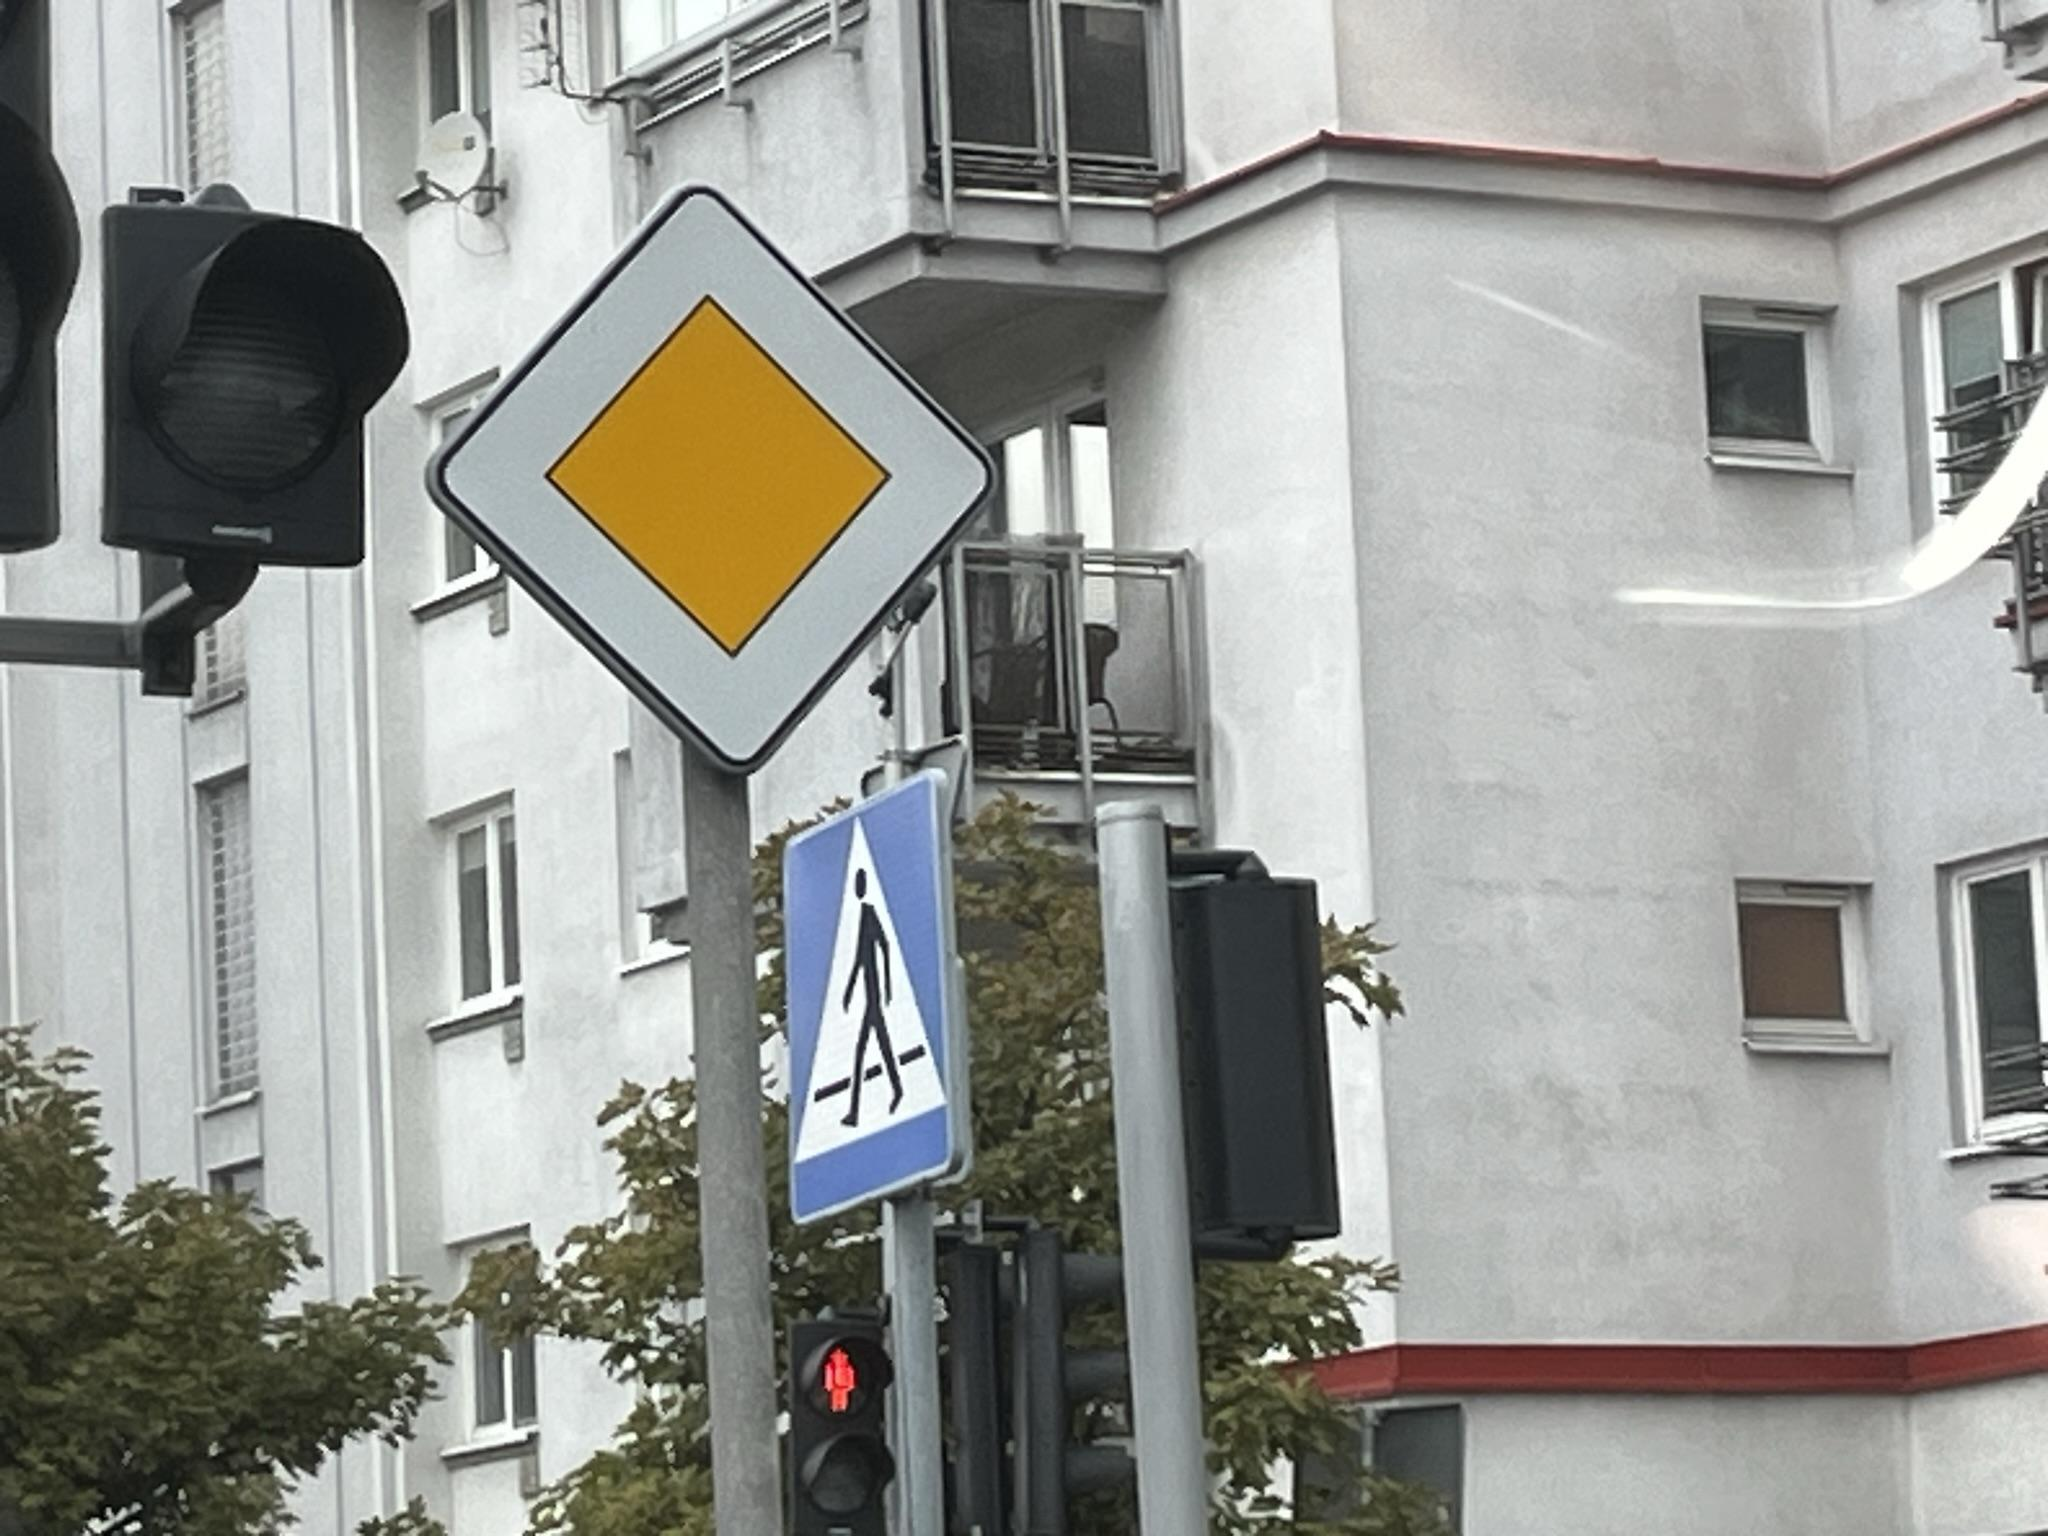information: (426, 177, 1000, 779), (782, 765, 968, 1229)
